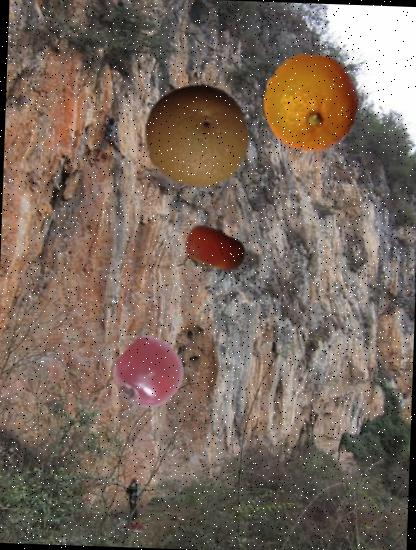Lemon: (262, 53, 362, 154)
Nectarine: (183, 217, 248, 282)
Orange: (143, 80, 255, 192)
Redcurrant: (112, 338, 186, 411)
